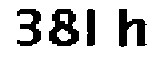3: (9, 5, 43, 50)
8: (46, 6, 81, 52)
I: (84, 3, 108, 58)
h: (115, 5, 152, 52)
